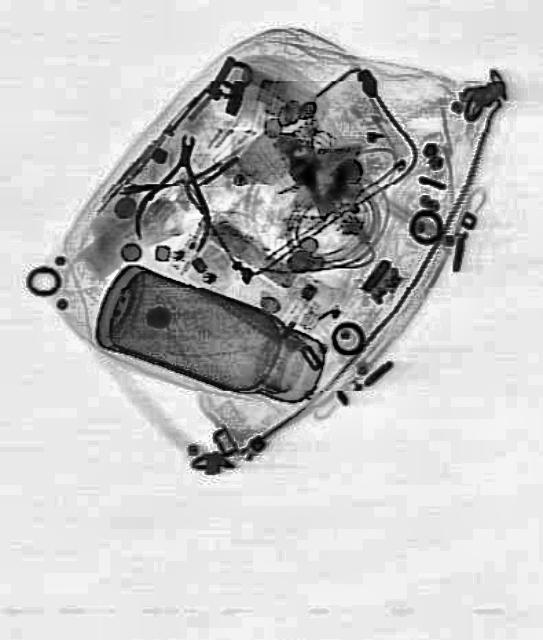Pliers: (130, 128, 220, 252)
